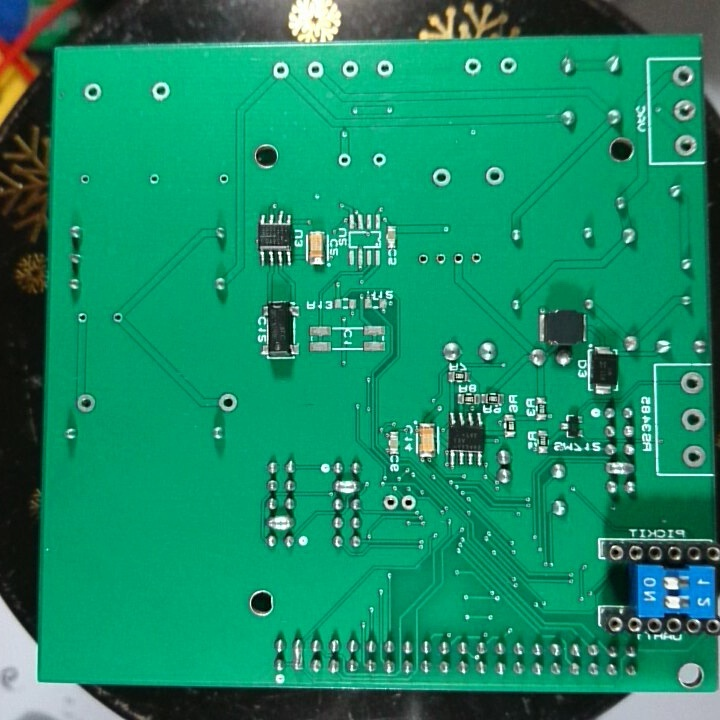F: (679, 404, 707, 439), (670, 62, 697, 95), (679, 440, 707, 470), (671, 98, 699, 125), (79, 80, 103, 110), (673, 133, 699, 160), (72, 391, 99, 416), (678, 370, 702, 398), (495, 53, 520, 79), (428, 165, 455, 189), (481, 163, 506, 188), (149, 79, 173, 105), (373, 57, 397, 82), (216, 392, 241, 416), (303, 59, 327, 83), (461, 55, 485, 79), (339, 57, 361, 83), (270, 61, 293, 83), (399, 490, 418, 515), (380, 491, 399, 515), (370, 149, 389, 170), (335, 150, 354, 169), (75, 309, 93, 328), (146, 170, 163, 187), (111, 310, 127, 328), (416, 249, 431, 268), (451, 249, 467, 266), (468, 251, 484, 268), (216, 170, 231, 188), (78, 171, 93, 186), (434, 252, 447, 266)
P: (264, 515, 301, 533), (332, 478, 365, 496), (290, 636, 305, 673), (604, 460, 638, 476)
